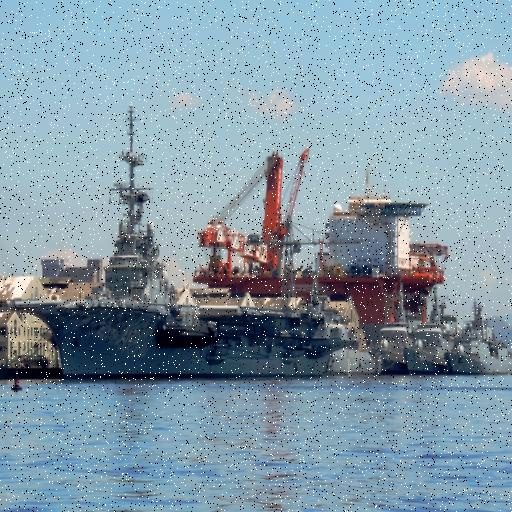Portanaves: (1, 101, 320, 392)
